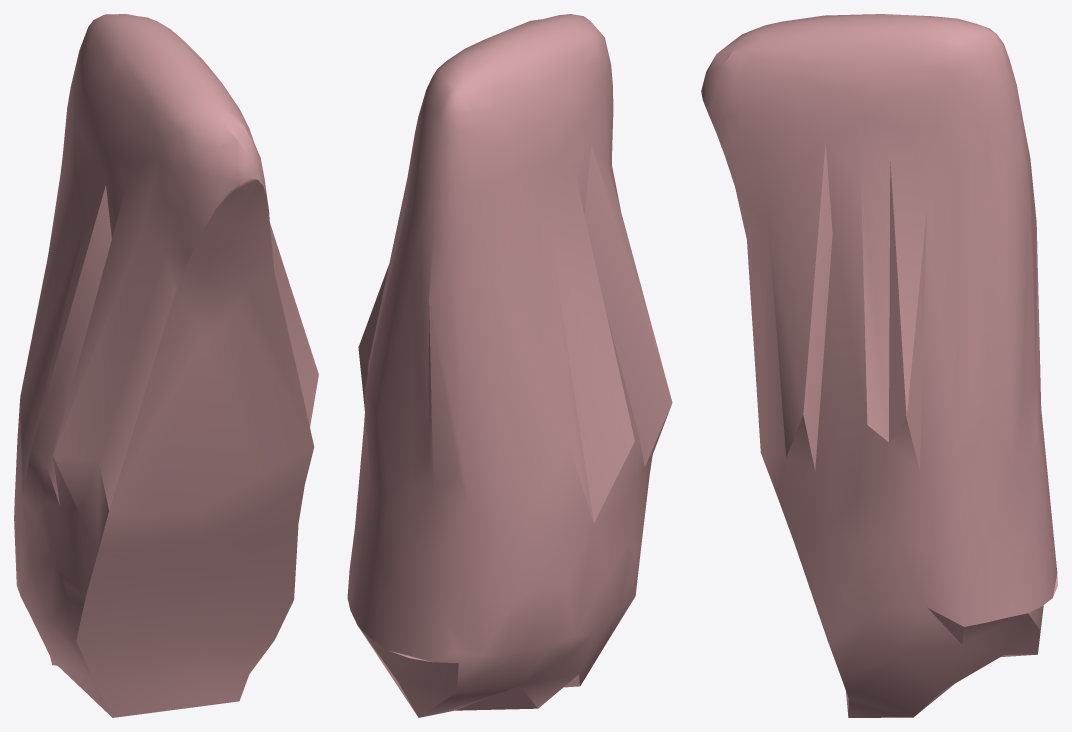
The model's file is fma84380_mm3089.glb.
3 renders of one model, left to right at view 1: azimuth 30°, elevation 25°; view 2: azimuth 150°, elevation 25°; view 3: azimuth 270°, elevation 25°, orthographic.
Parts seen in each view (by area): view 1: FMA84380_MM3089; view 2: FMA84380_MM3089; view 3: FMA84380_MM3089.
Part boxes in pixels (x1,y1,x2,y2): FMA84380_MM3089: (14, 14, 318, 717); FMA84380_MM3089: (347, 14, 672, 717); FMA84380_MM3089: (701, 14, 1057, 717).
Size of the model in its own units: 0.00197 by 0.00461 by 0.00223.
